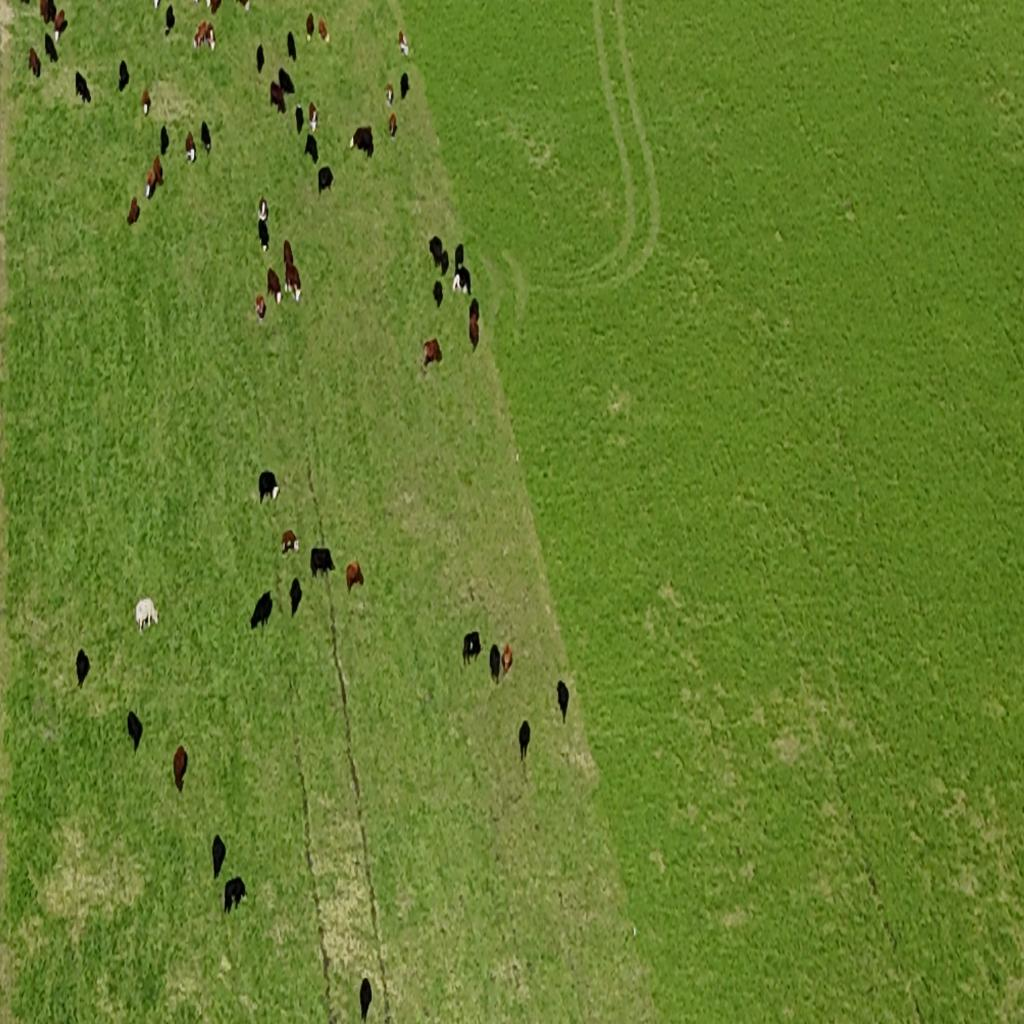cow: (250, 590, 272, 632), (224, 874, 246, 914), (310, 546, 334, 580), (172, 745, 188, 793), (350, 126, 374, 158), (212, 832, 227, 882), (127, 709, 143, 754), (462, 631, 482, 667), (258, 470, 278, 506), (135, 598, 155, 632), (430, 236, 448, 272), (422, 338, 442, 370), (286, 262, 302, 302), (346, 559, 364, 593), (469, 298, 480, 352), (76, 648, 90, 688), (557, 680, 570, 723), (289, 576, 302, 618), (268, 267, 282, 306), (75, 70, 91, 104), (270, 80, 286, 114), (518, 719, 530, 761), (490, 644, 502, 684), (281, 529, 299, 555), (318, 166, 334, 194), (44, 34, 58, 65), (279, 68, 295, 95), (258, 218, 270, 254), (304, 133, 318, 163), (40, 0, 56, 26), (502, 642, 514, 676), (283, 240, 295, 272), (454, 270, 470, 294), (28, 48, 40, 78), (128, 196, 140, 226), (152, 155, 164, 185), (185, 131, 196, 163), (164, 2, 174, 36), (201, 120, 211, 154), (308, 101, 318, 135), (254, 294, 266, 322), (194, 20, 206, 48), (119, 59, 129, 92), (287, 30, 297, 62), (55, 8, 65, 40), (146, 168, 156, 200), (317, 18, 330, 42), (160, 124, 169, 157), (434, 280, 444, 308), (400, 72, 410, 100), (454, 243, 464, 271), (258, 196, 268, 224), (295, 106, 304, 136), (388, 112, 398, 139), (398, 30, 409, 54), (256, 44, 264, 74), (306, 12, 314, 42), (142, 87, 150, 117), (386, 84, 394, 108)
